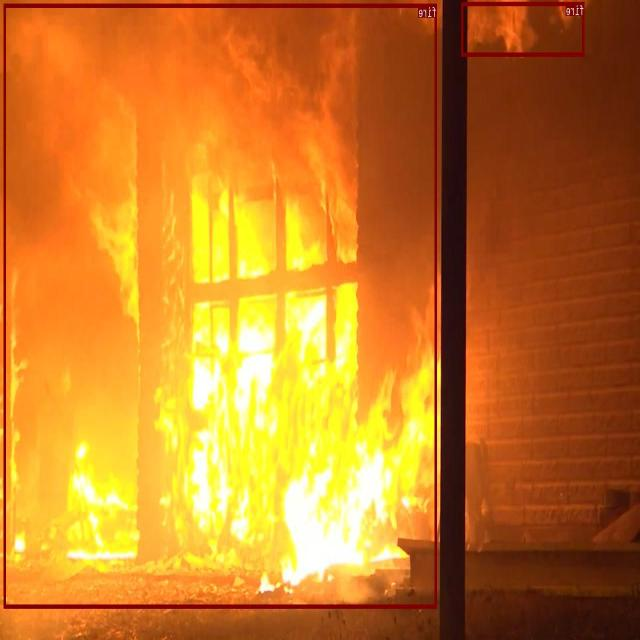fire: (5, 3, 438, 608), (462, 1, 585, 56)
